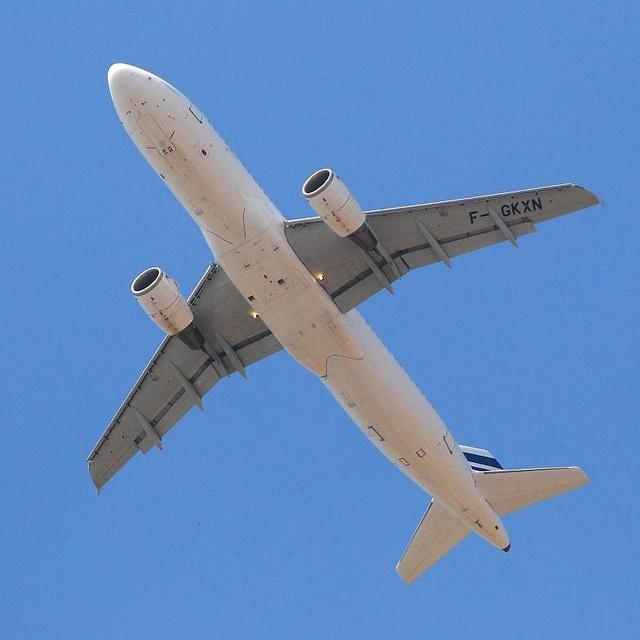airplane: (63, 60, 597, 583)
